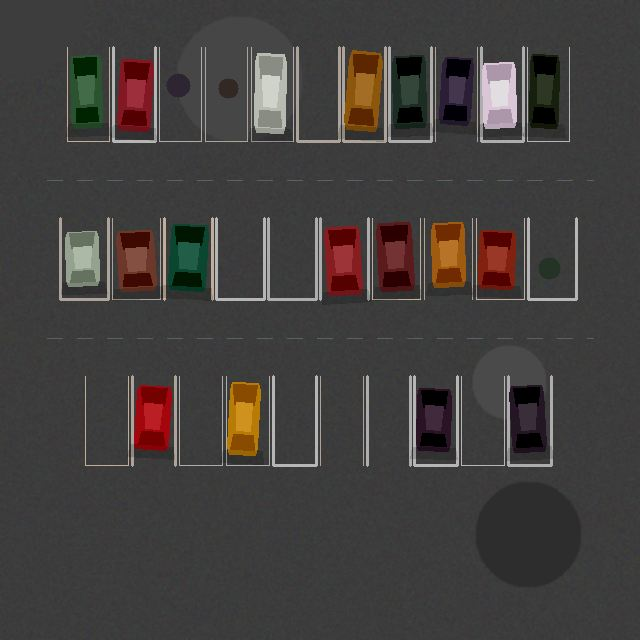space-empty: (159, 47, 201, 141), (205, 47, 247, 141), (297, 47, 339, 141), (216, 218, 264, 299), (268, 218, 316, 299), (528, 218, 576, 299), (85, 376, 128, 465), (179, 376, 222, 465), (273, 376, 316, 465), (320, 376, 363, 465), (367, 376, 410, 465), (461, 376, 504, 465)
space-occupied: (67, 47, 109, 141), (113, 47, 155, 141), (251, 47, 293, 141), (343, 47, 385, 141), (389, 47, 431, 141), (435, 47, 477, 141), (481, 47, 523, 141), (527, 47, 569, 141), (60, 218, 108, 299), (112, 218, 160, 299), (164, 218, 212, 299), (320, 218, 368, 299), (372, 218, 420, 299), (424, 218, 472, 299), (476, 218, 524, 299), (132, 376, 175, 465), (226, 376, 269, 465), (414, 376, 457, 465), (508, 376, 551, 465)
